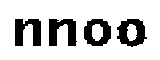n: (43, 15, 79, 51), (11, 14, 42, 52)
o: (116, 18, 148, 48), (83, 16, 112, 48)
